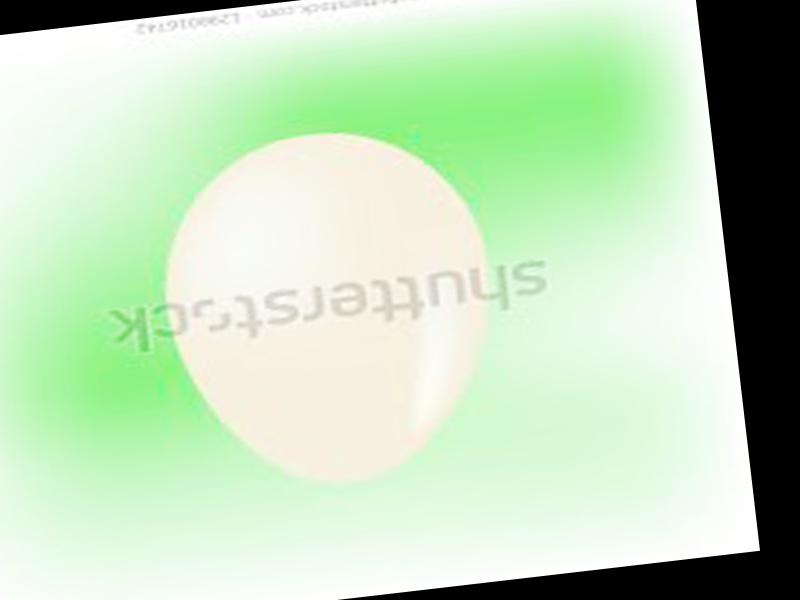Eggs: (148, 117, 508, 500)
